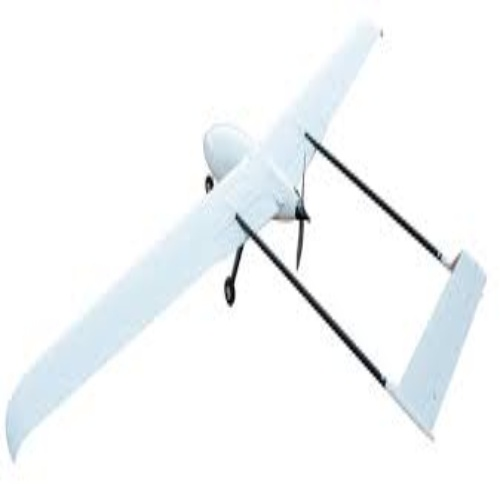uav671: (6, 17, 484, 457)
